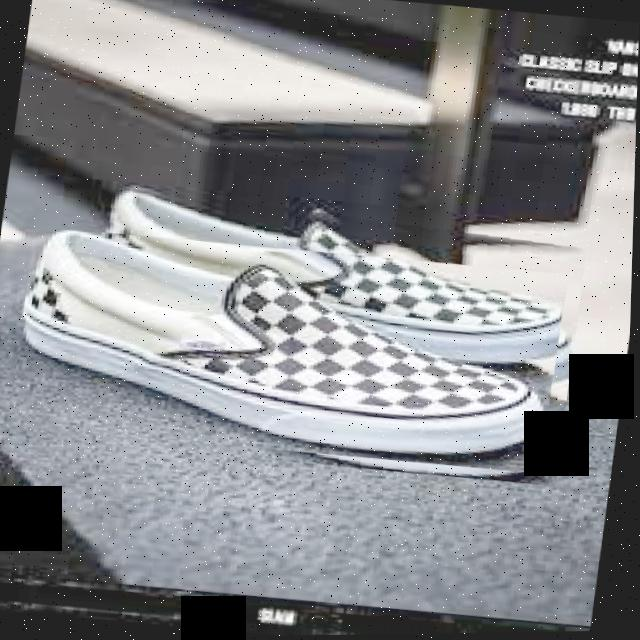shoe: (0, 167, 592, 494), (10, 220, 572, 482)
